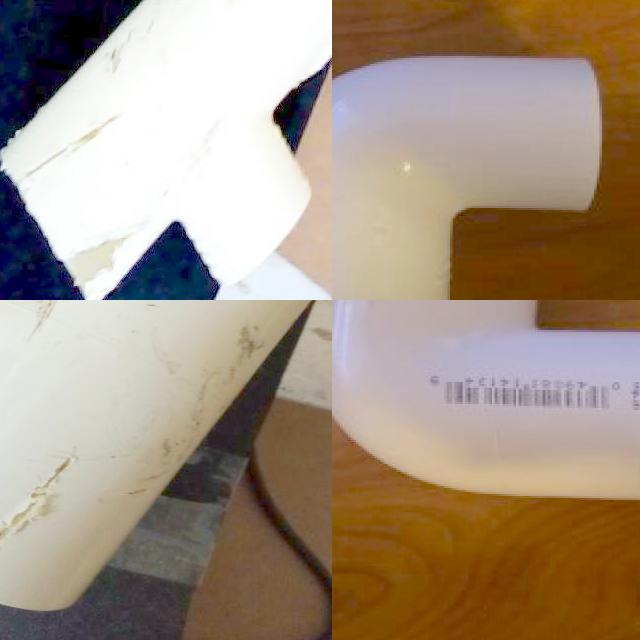Defective: (16, 108, 117, 188), (0, 454, 74, 551), (56, 222, 136, 289)
L Joint: (332, 57, 604, 300), (332, 300, 640, 503)
